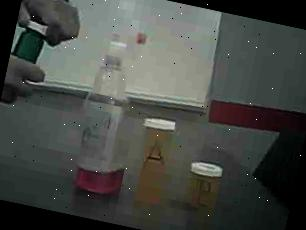Bottle A: (127, 109, 192, 214)
Bottle B: (183, 155, 230, 216)
Bottle C: (5, 1, 65, 85)
hazard: (65, 18, 160, 200)
